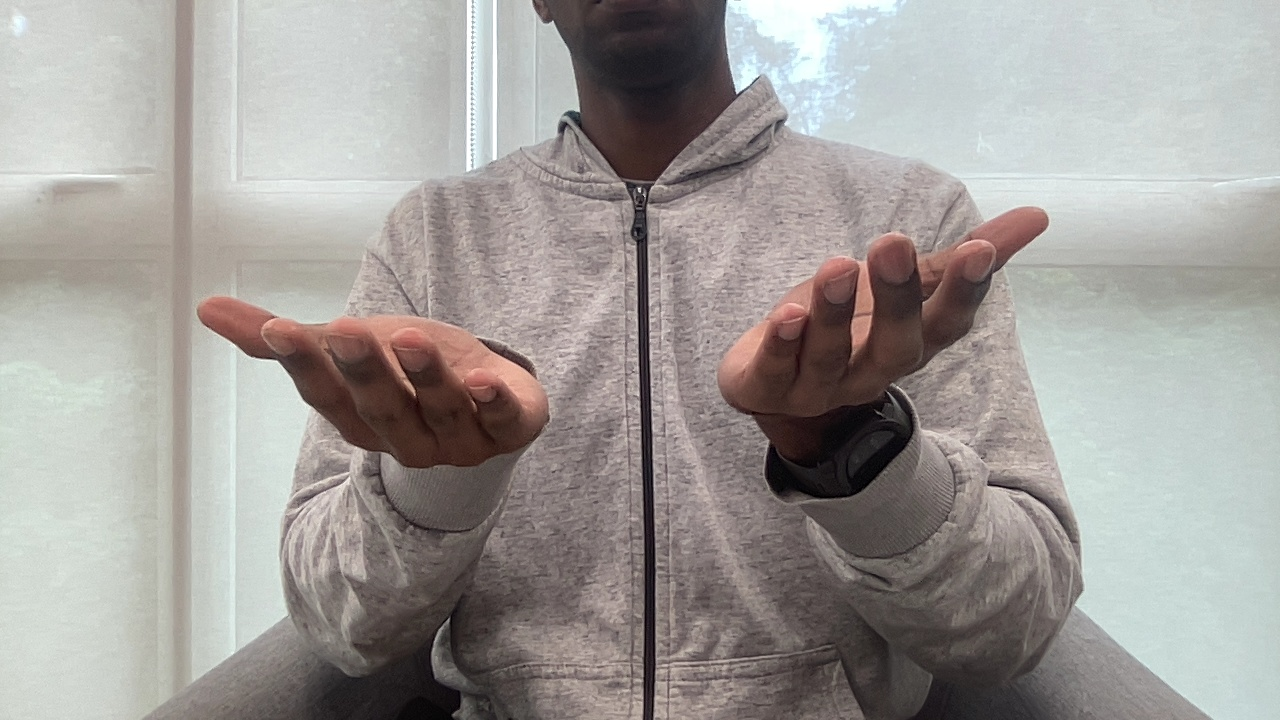give: (191, 202, 1066, 475)
